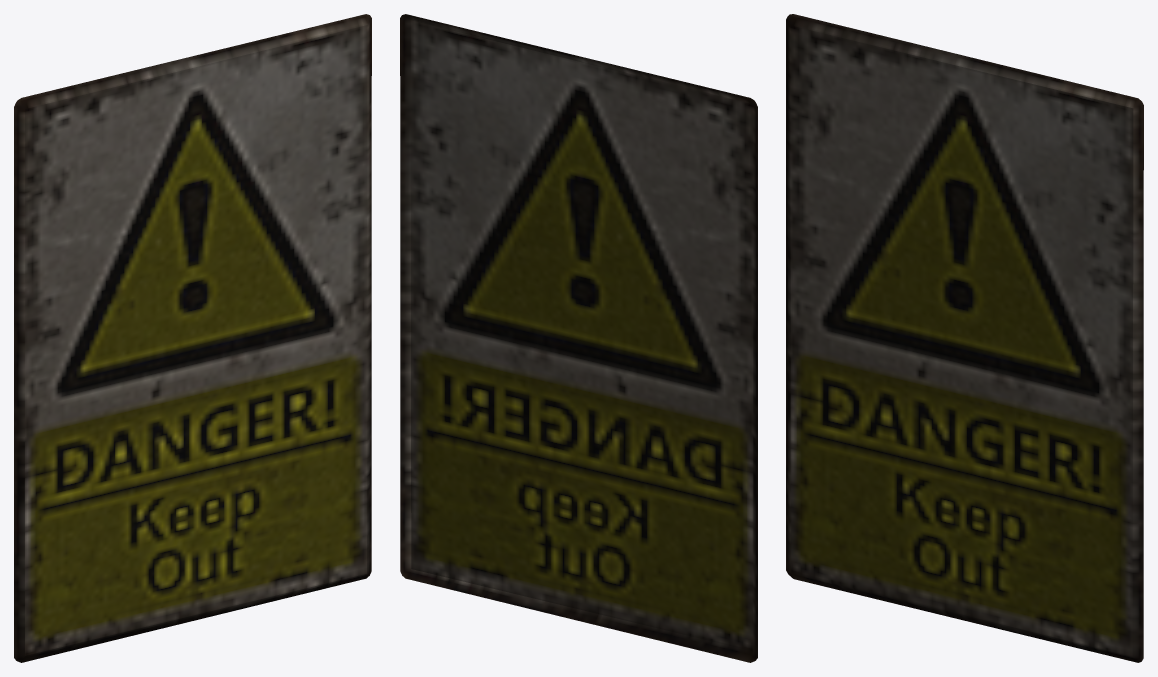
Rendered from sign_3.obj.
3 views of the same model, side by side, from view 1: azimuth 30°, elevation 25°; view 2: azimuth 150°, elevation 25°; view 3: azimuth 330°, elevation 25° (orthographic).
Visible parts, largest first — view 1: sign_3; view 2: sign_3; view 3: sign_3.
Part boxes in pixels (x1,y1,x2,y2): sign_3: (14,14,371,662); sign_3: (400,14,757,662); sign_3: (786,14,1143,662).
Size of the model in its own units: 0.2601 by 0.3926 by 0.004.
